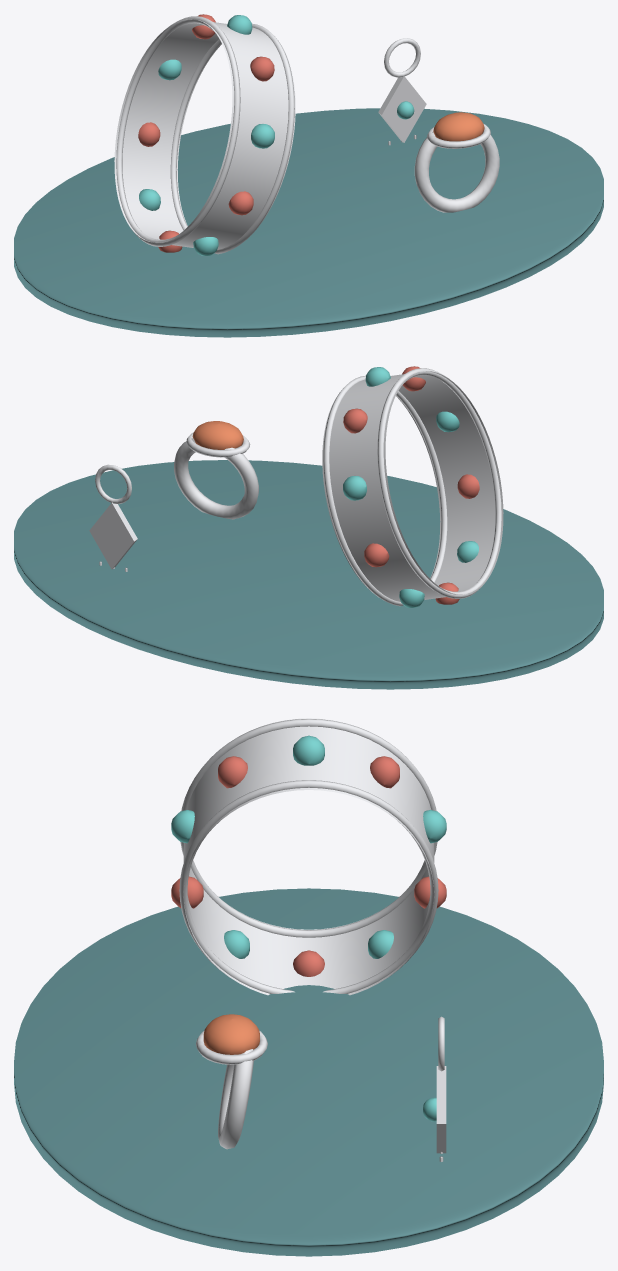
The model's file is zerger.glb.
The picture shows the model from 3 angles, top to bottom: view 1: azimuth 30°, elevation 25°; view 2: azimuth 150°, elevation 25°; view 3: azimuth 270°, elevation 25°; orthographic projection. The views are drawn at different scales.
Parts seen in each view (by area): view 1: velvet, bracelet, filigree (×2), ring, stone (×4), ear-plate, carnelian, bezel, ear-hook; view 2: velvet, bracelet, filigree (×2), ring, stone (×4), ear-plate, carnelian, bezel, ear-hook; view 3: velvet, bracelet, filigree (×2), stone (×3), ring, carnelian, ear-plate, bezel.
Boxes of the visible parts, x1,y1,x2,y2 form: velvet: (14, 108, 603, 337); bracelet: (114, 19, 295, 249); filigree (×2): (116, 16, 294, 254); ring: (414, 131, 499, 212); stone (×4): (138, 56, 274, 215); ear-plate: (378, 76, 426, 142); carnelian: (433, 112, 484, 141); bezel: (427, 124, 490, 148); ear-hook: (384, 38, 420, 77); velvet: (14, 460, 603, 689); bracelet: (322, 371, 503, 601); filigree (×2): (323, 368, 501, 606); ring: (174, 438, 258, 519); stone (×4): (343, 408, 479, 567); ear-plate: (89, 502, 137, 569); carnelian: (192, 421, 243, 449); bezel: (186, 432, 250, 457); ear-hook: (95, 464, 131, 504); velvet: (14, 888, 603, 1256); bracelet: (183, 718, 434, 995); filigree (×2): (179, 719, 438, 993); stone (×3): (218, 735, 399, 788); ring: (218, 1049, 253, 1149); carnelian: (203, 1014, 259, 1054); ear-plate: (436, 1066, 446, 1153); bezel: (196, 1031, 267, 1064).
Bounding box in the file's own units: 3.4 × 1.38 × 2.45.
